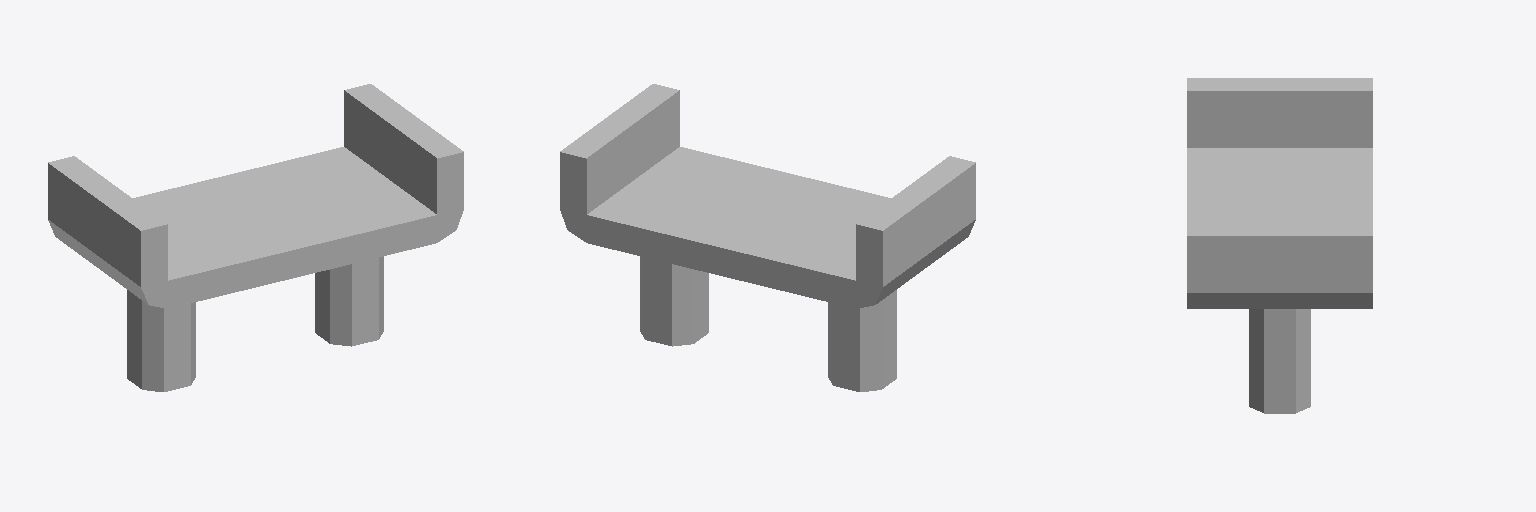
Rendered from support-color-two-top.obj.
3 renders of one model, left to right at view 1: azimuth 30°, elevation 25°; view 2: azimuth 150°, elevation 25°; view 3: azimuth 270°, elevation 25°, orthographic.
Parts seen in each view (by area): view 1: support-color-two-top; view 2: support-color-two-top; view 3: support-color-two-top.
Part boxes in pixels (x1,y1,x2,y2): support-color-two-top: (48, 84, 463, 391); support-color-two-top: (560, 84, 975, 391); support-color-two-top: (1187, 78, 1372, 413).
Bounding box in the file's own units: 1.2 × 0.7 × 0.6.